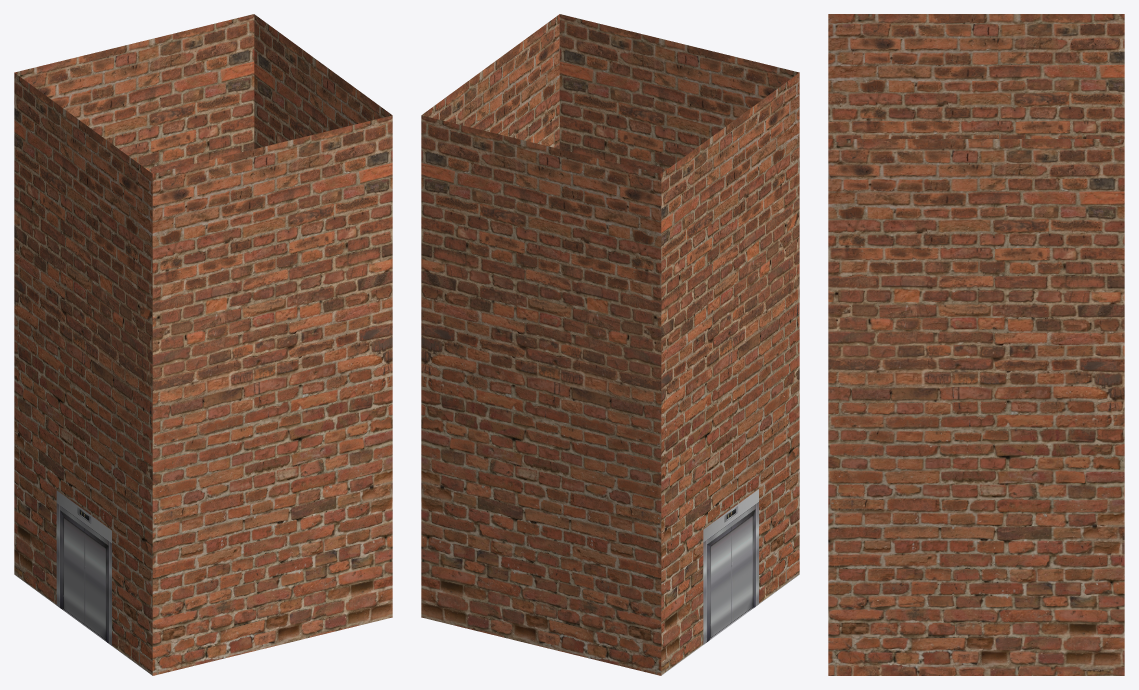
File: Elevador.obj
3 renders of one model, left to right at view 1: azimuth 30°, elevation 25°; view 2: azimuth 150°, elevation 25°; view 3: azimuth 270°, elevation 25°, orthographic. The views are drawn at different scales.
Visible parts, largest first — view 1: Elevador; view 2: Elevador; view 3: Elevador.
Part boxes in pixels (x1,y1,x2,y2): Elevador: (14,14,392,675); Elevador: (421,14,799,675); Elevador: (828,14,1124,675).
Bounding box in the file's own units: 5 × 10 × 5.
1 material, 1 textured.
